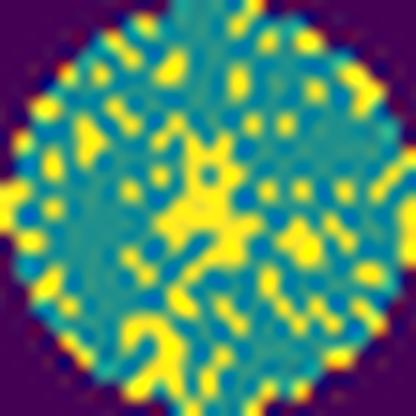Center: (154, 108, 265, 324)
